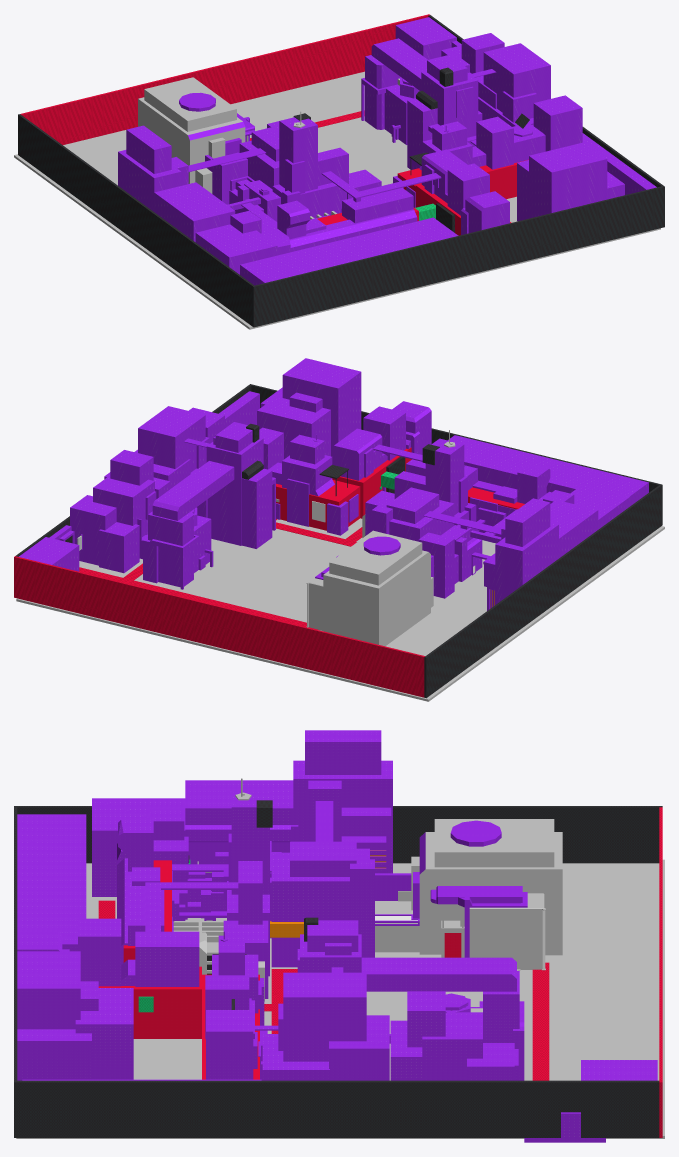
File: Orange.gltf
3 renders of one model, top to bottom at view 1: azimuth 30°, elevation 25°; view 2: azimuth 150°, elevation 25°; view 3: azimuth 270°, elevation 25°, orthographic. The views are drawn at different scales.
Visible parts, largest first — view 1: _MeshInstance3D_49597, _MeshInstance3D_49609, _MeshInstance3D_51943, _MeshInstance3D_49615, _MeshInstance3D_50191, _MeshInstance3D_50257, _MeshInstance3D_51595, _MeshInstance3D_50233, _MeshInstance3D_49717, _MeshInstance3D_50353, _MeshInstance3D_50221, _MeshInstance3D_51721 (+42 smaller); view 2: _MeshInstance3D_49609, _MeshInstance3D_51943, _MeshInstance3D_49615, _MeshInstance3D_49717, _MeshInstance3D_50191, _MeshInstance3D_50257, _MeshInstance3D_51595, _MeshInstance3D_50347, _MeshInstance3D_50245, _MeshInstance3D_50353, _MeshInstance3D_51649, _MeshInstance3D_50263 (+42 smaller); view 3: _MeshInstance3D_49603, _MeshInstance3D_51943, _MeshInstance3D_49615, _MeshInstance3D_50191, _MeshInstance3D_51595, _MeshInstance3D_49717, _MeshInstance3D_51649, _MeshInstance3D_50257, _MeshInstance3D_50353, _MeshInstance3D_50215, _MeshInstance3D_50233, _MeshInstance3D_50047 (+49 smaller).
Part boxes in pixels (x1,y1,x2,y2): _MeshInstance3D_49597: (252,186,664,327); _MeshInstance3D_49609: (20,14,429,144); _MeshInstance3D_51943: (14,71,660,329); _MeshInstance3D_49615: (18,114,253,325); _MeshInstance3D_50191: (240,217,458,285); _MeshInstance3D_50257: (529,142,607,218); _MeshInstance3D_51595: (483,43,550,112); _MeshInstance3D_50233: (154,182,235,241); _MeshInstance3D_49717: (138,97,245,183); _MeshInstance3D_50353: (144,77,236,131); _MeshInstance3D_50221: (195,224,277,274); _MeshInstance3D_51721: (533,95,582,151); _MeshInstance3D_49609: (14,556,425,697); _MeshInstance3D_51943: (16,518,664,701); _MeshInstance3D_49615: (424,485,661,698); _MeshInstance3D_49717: (323,550,430,646); _MeshInstance3D_50191: (448,435,648,506); _MeshInstance3D_50257: (282,358,361,464); _MeshInstance3D_51595: (138,406,205,472); _MeshInstance3D_50347: (206,437,263,545); _MeshInstance3D_50245: (495,522,558,604); _MeshInstance3D_50353: (329,530,422,585); _MeshInstance3D_51649: (152,461,234,520); _MeshInstance3D_50263: (257,395,330,459); _MeshInstance3D_49603: (15,1080,659,1137); _MeshInstance3D_51943: (16,859,664,1138); _MeshInstance3D_49615: (17,806,662,863); _MeshInstance3D_50191: (17,814,86,951); _MeshInstance3D_51595: (283,972,366,1061); _MeshInstance3D_49717: (419,832,562,955); _MeshInstance3D_51649: (361,957,516,991); _MeshInstance3D_50257: (17,951,80,1029); _MeshInstance3D_50353: (434,819,554,867); _MeshInstance3D_50215: (271,852,366,967); _MeshInstance3D_50233: (185,780,293,877); _MeshInstance3D_50047: (469,893,544,969).
Bounding box in the file's own units: 398 × 130 × 392.
